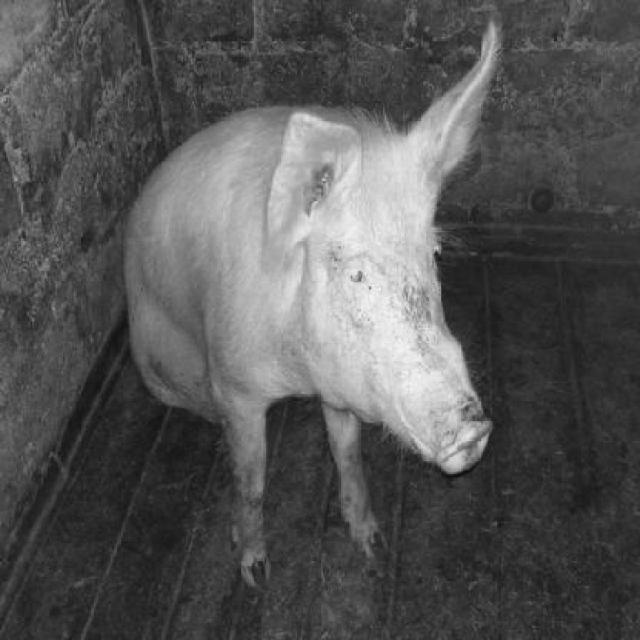Boar: (121, 8, 504, 589)
